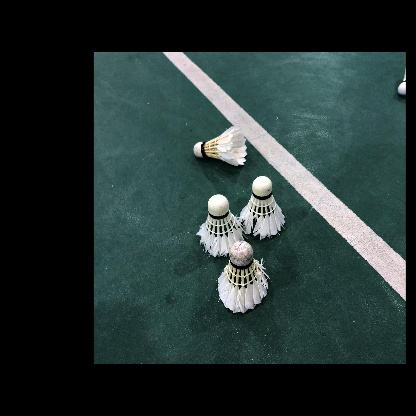ball_single: (218, 241, 268, 313), (196, 194, 246, 257), (239, 176, 285, 240), (193, 126, 247, 166), (398, 68, 406, 96)
